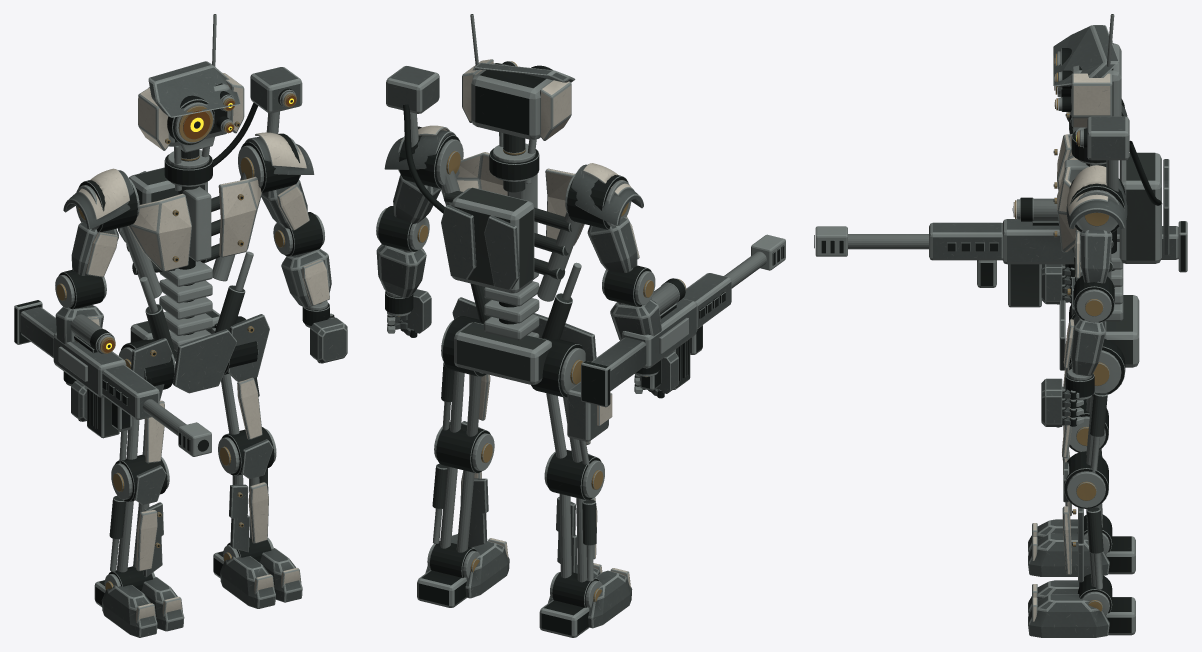
File: ranged-t3-tracker-v1.glb
3 views of the same model, side by side, from view 1: azimuth 30°, elevation 25°; view 2: azimuth 150°, elevation 25°; view 3: azimuth 270°, elevation 25° (orthographic). The views are drawn at different scales.
Parts seen in each view (by area): view 1: pelvis__metal, chest__clay, chest__metal, weaponR__metal, pelvis__clay, head__clay, weaponR__clay, shoulderR__clay, ankleL__clay, ankleR__clay, head__metal, kneeL__clay (+19 smaller); view 2: pelvis__metal, chest__metal, chest__clay, head__metal, weaponR__metal, kneeL__metal, kneeR__metal, weaponR__clay, shoulderR__clay, head__clay, ankleL__metal, ankleR__metal (+18 smaller); view 3: weaponR__metal, chest__metal, weaponR__clay, head__clay, chest__clay, pelvis__metal, shoulderL__clay, ankleL__clay, kneeL__metal, ankleR__clay, elbowL__clay, ankleL__metal (+11 smaller).
Boxes of the visible parts, bbox=[...] form: pelvis__metal: bbox=[118, 251, 258, 389]; chest__clay: bbox=[118, 67, 302, 271]; chest__metal: bbox=[120, 88, 296, 298]; weaponR__metal: bbox=[14, 300, 211, 456]; pelvis__clay: bbox=[131, 314, 269, 400]; head__clay: bbox=[138, 61, 244, 150]; weaponR__clay: bbox=[20, 307, 159, 419]; shoulderR__clay: bbox=[63, 168, 133, 277]; ankleL__clay: bbox=[220, 548, 302, 608]; ankleR__clay: bbox=[101, 577, 184, 637]; head__metal: bbox=[148, 14, 240, 194]; kneeL__clay: bbox=[229, 439, 273, 552]; pelvis__metal: bbox=[441, 262, 585, 397]; chest__metal: bbox=[403, 104, 581, 301]; chest__clay: bbox=[386, 66, 584, 290]; head__metal: bbox=[470, 14, 552, 192]; weaponR__metal: bbox=[581, 234, 785, 407]; kneeL__metal: bbox=[432, 422, 494, 552]; kneeR__metal: bbox=[544, 449, 604, 582]; weaponR__clay: bbox=[591, 273, 731, 390]; shoulderR__clay: bbox=[571, 163, 643, 272]; head__clay: bbox=[462, 59, 575, 140]; ankleL__metal: bbox=[417, 541, 479, 607]; ankleR__metal: bbox=[539, 572, 602, 637]; weaponR__metal: bbox=[814, 197, 1187, 307]; chest__metal: bbox=[1053, 127, 1162, 279]; weaponR__clay: bbox=[929, 219, 1178, 264]; head__clay: bbox=[1053, 25, 1119, 127]; chest__clay: bbox=[1057, 116, 1169, 255]; pelvis__metal: bbox=[1066, 230, 1139, 396]; shoulderL__clay: bbox=[1066, 165, 1127, 283]; ankleL__clay: bbox=[1028, 580, 1109, 637]; kneeL__metal: bbox=[1064, 451, 1108, 589]; ankleR__clay: bbox=[1028, 519, 1109, 576]; elbowL__clay: bbox=[1063, 315, 1105, 376]; ankleL__metal: bbox=[1077, 574, 1135, 635].
Bounding box in the file's own units: 2.33 × 4.69 × 2.65.
Materials: 13 (10 with a texture image).
